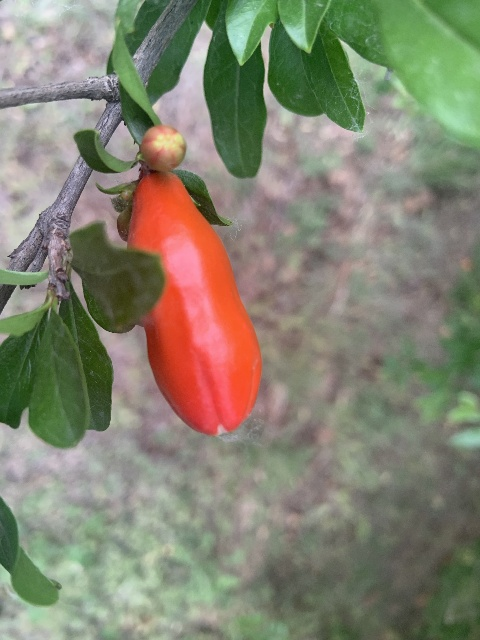bud: (128, 171, 259, 437), (139, 124, 186, 172)
